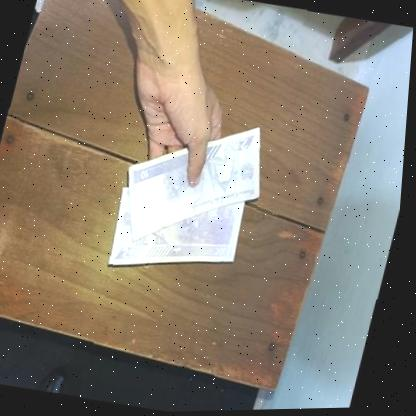ten-back-vef: (112, 106, 280, 262)
two_hundred-back-vef: (105, 184, 251, 288)
